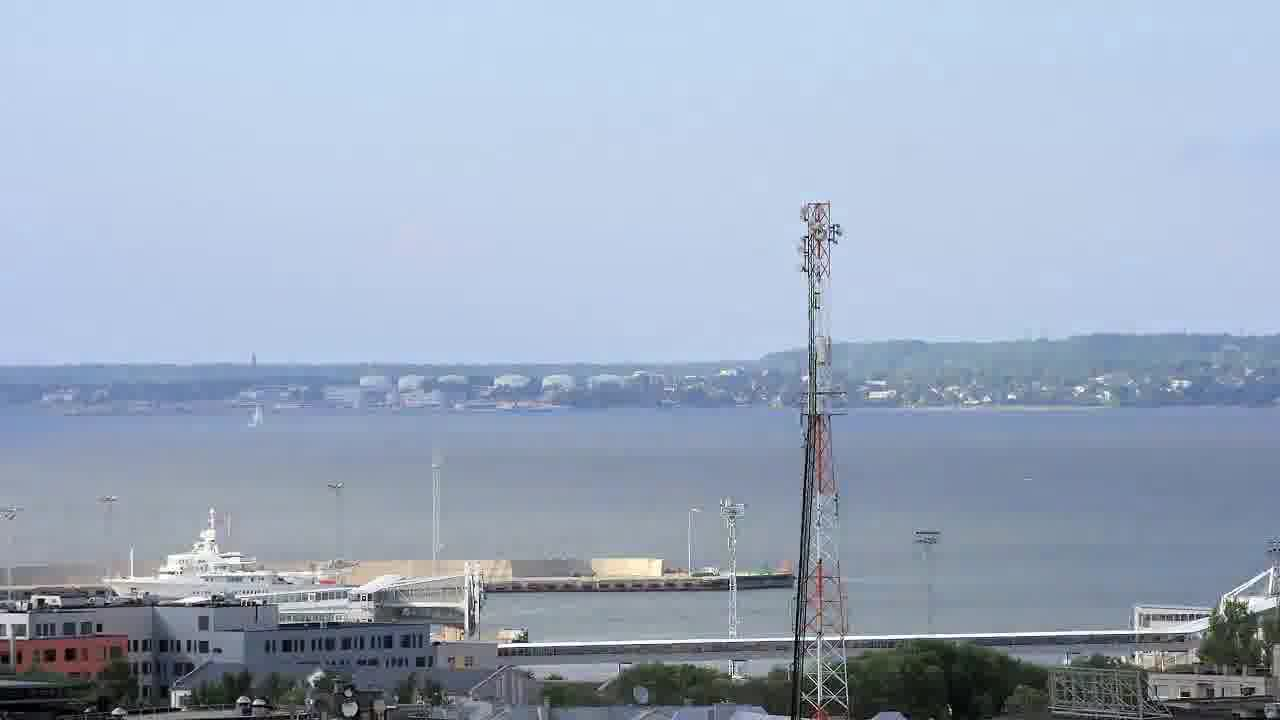type-2: (234, 385, 288, 446)
type-3: (88, 507, 346, 605)
